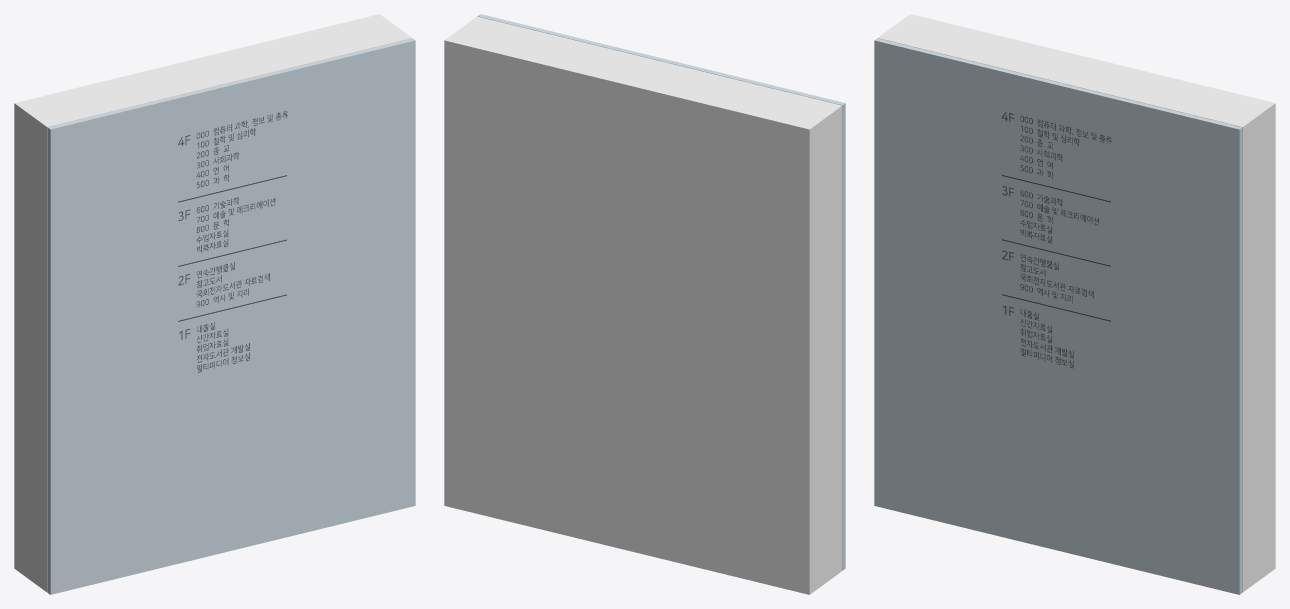
Rendered from hall_board.fbx.
3 views of the same model, side by side, from view 1: azimuth 30°, elevation 25°; view 2: azimuth 150°, elevation 25°; view 3: azimuth 330°, elevation 25° (orthographic).
Visible parts, largest first — view 1: hall_board; view 2: hall_board; view 3: hall_board.
Boxes of the visible parts, box(x1,y1,x2,y2) form: hall_board: box(14, 14, 415, 594); hall_board: box(444, 14, 845, 594); hall_board: box(874, 14, 1275, 594).
Size of the model in its own units: 0.0246 by 0.0299 by 0.00421.
1 material, 1 textured.
